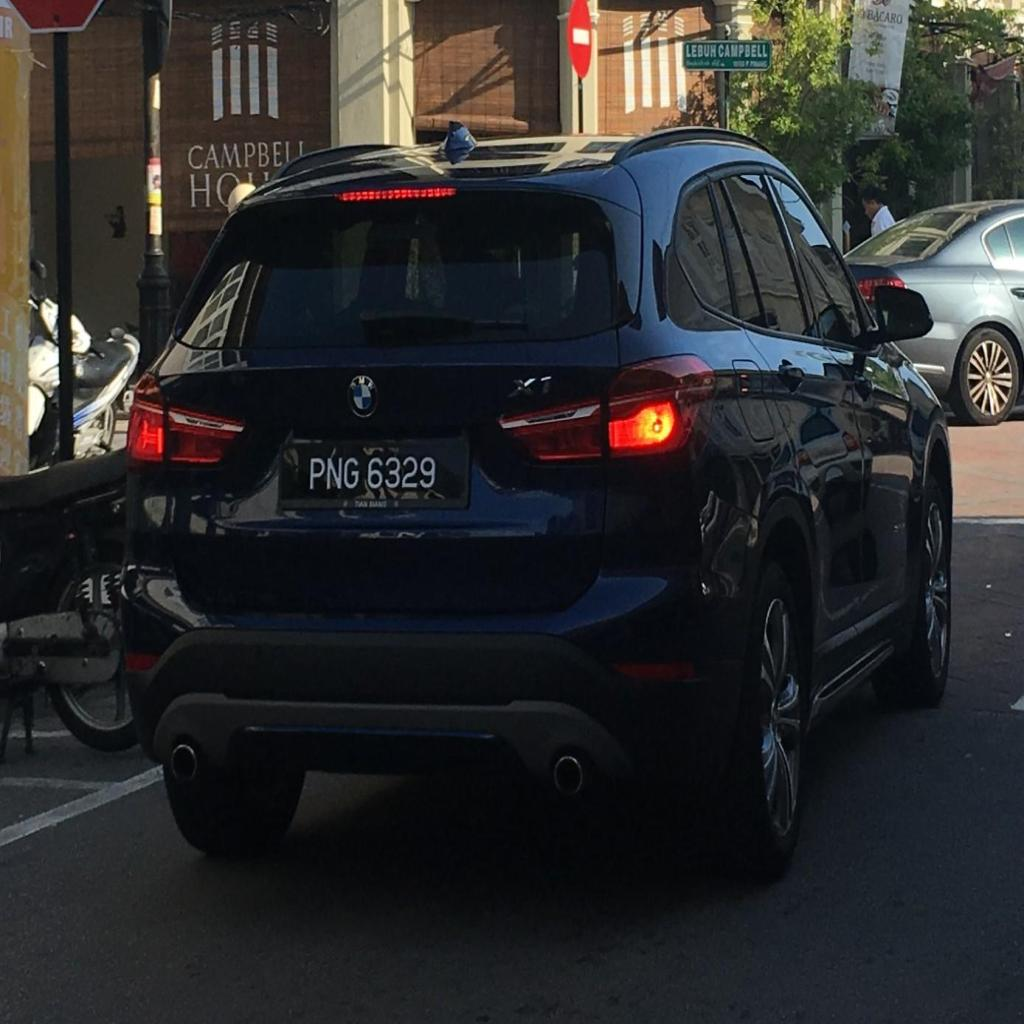car: (122, 128, 949, 875)
car plate: (279, 437, 468, 508)
